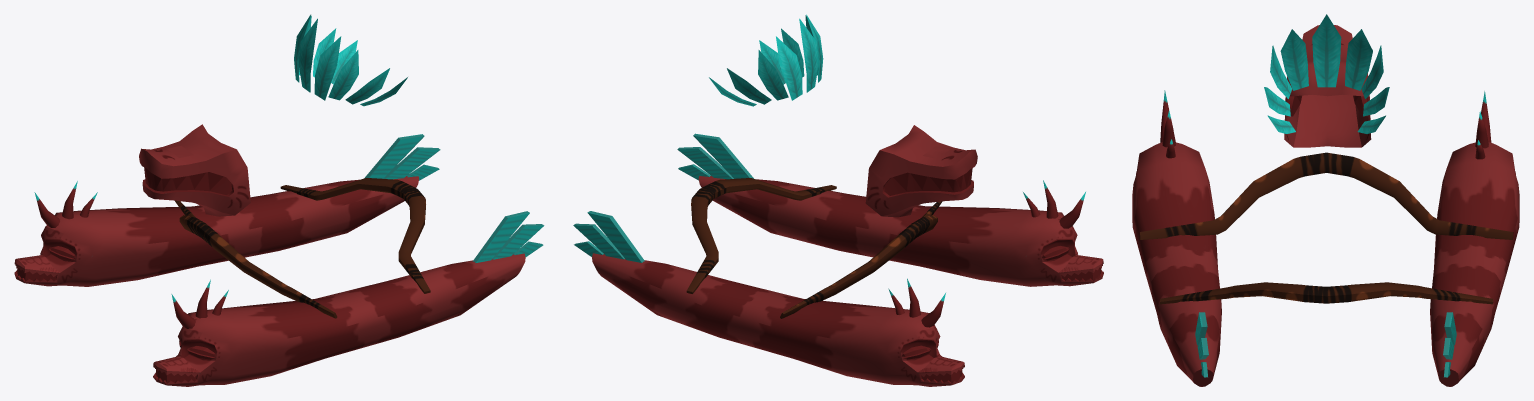
Rendered from Coque quatamarant.FBX.
3 views of the same model, side by side, from view 1: azimuth 30°, elevation 25°; view 2: azimuth 150°, elevation 25°; view 3: azimuth 270°, elevation 25° (orthographic). The views are drawn at different scales.
Parts seen in each view (by area): view 1: Object029; view 2: Object029; view 3: Object029.
Part boxes in pixels (x1,y1,x2,y2): Object029: (14, 14, 544, 386); Object029: (573, 14, 1103, 386); Object029: (1132, 14, 1519, 386).
Bounding box in the file's own units: 615 × 403 × 440.
